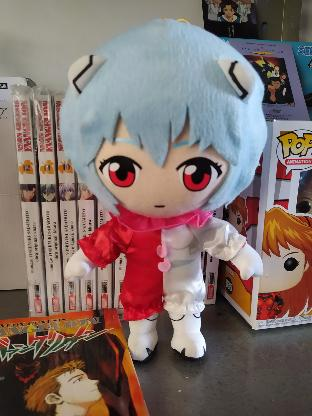rei-plush: (52, 11, 272, 370)
